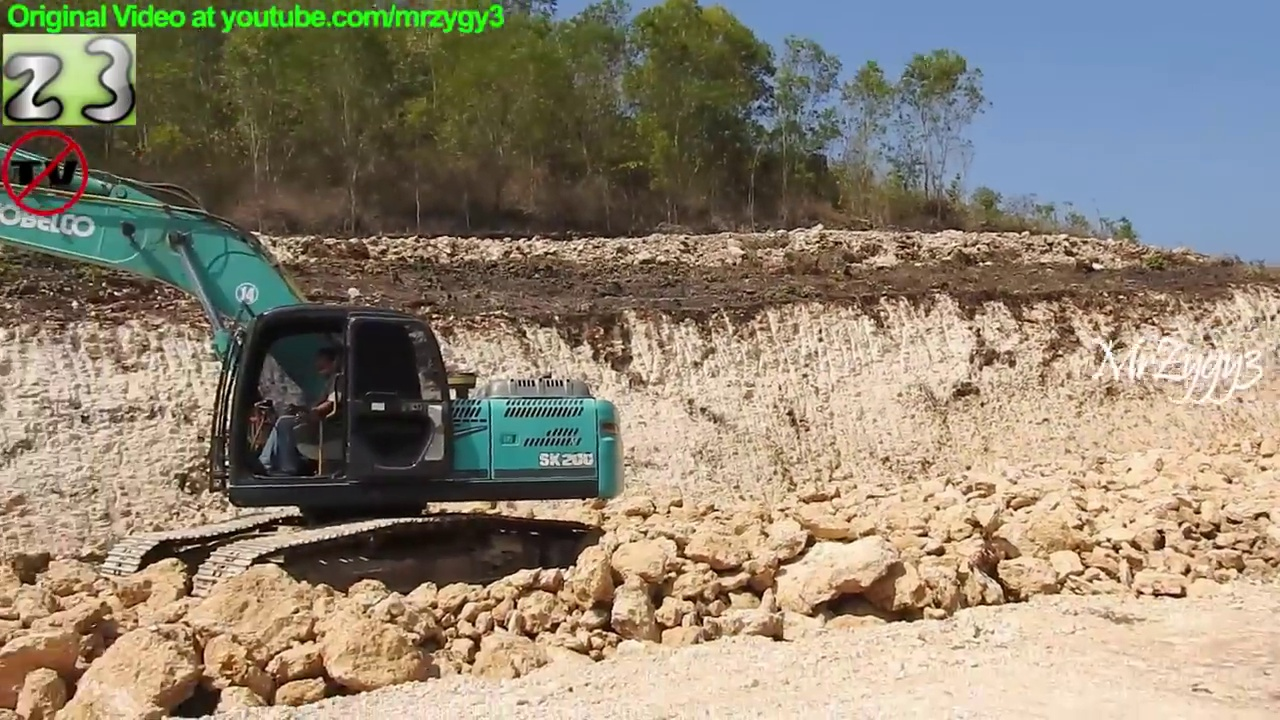excavator: (1, 137, 634, 617)
